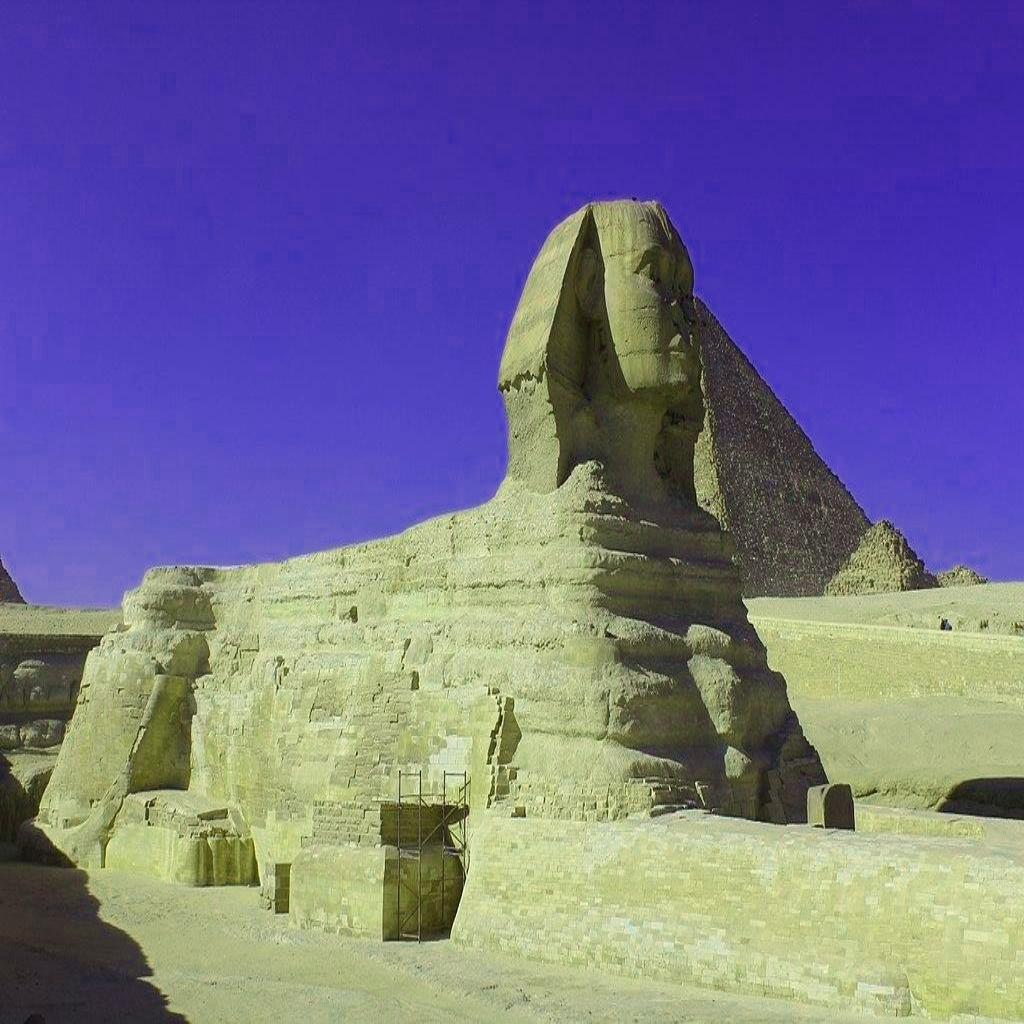Sphinx: (20, 194, 854, 902)
